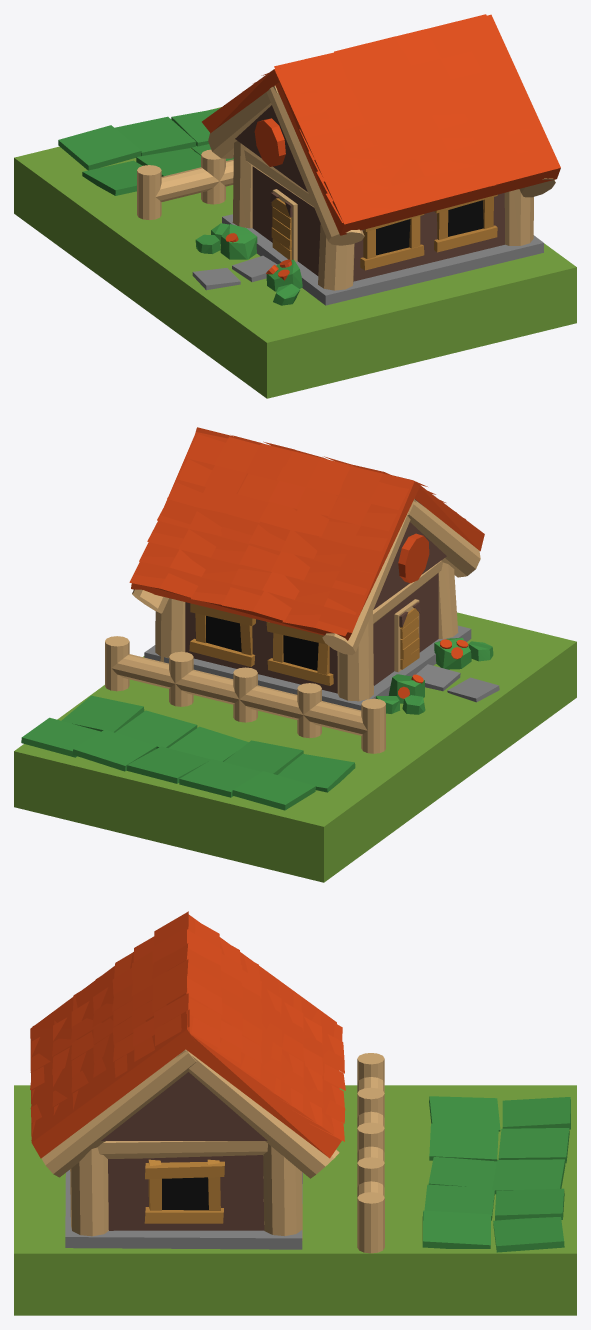
3 renders of one model, top to bottom at view 1: azimuth 30°, elevation 25°; view 2: azimuth 150°, elevation 25°; view 3: azimuth 270°, elevation 25°, orthographic. The views are drawn at different scales.
Parts seen in each view (by area): view 1: node_MeshObject-992819328-PolyPaper18; view 2: node_MeshObject-992819328-PolyPaper18; view 3: node_MeshObject-992819328-PolyPaper18.
Part boxes in pixels (<box>): node_MeshObject-992819328-PolyPaper18: <box>14,14,576,398</box>; node_MeshObject-992819328-PolyPaper18: <box>14,427,576,882</box>; node_MeshObject-992819328-PolyPaper18: <box>14,911,576,1315</box>.
Size of the model in its own units: 0.2909 by 0.2293 by 0.41.
